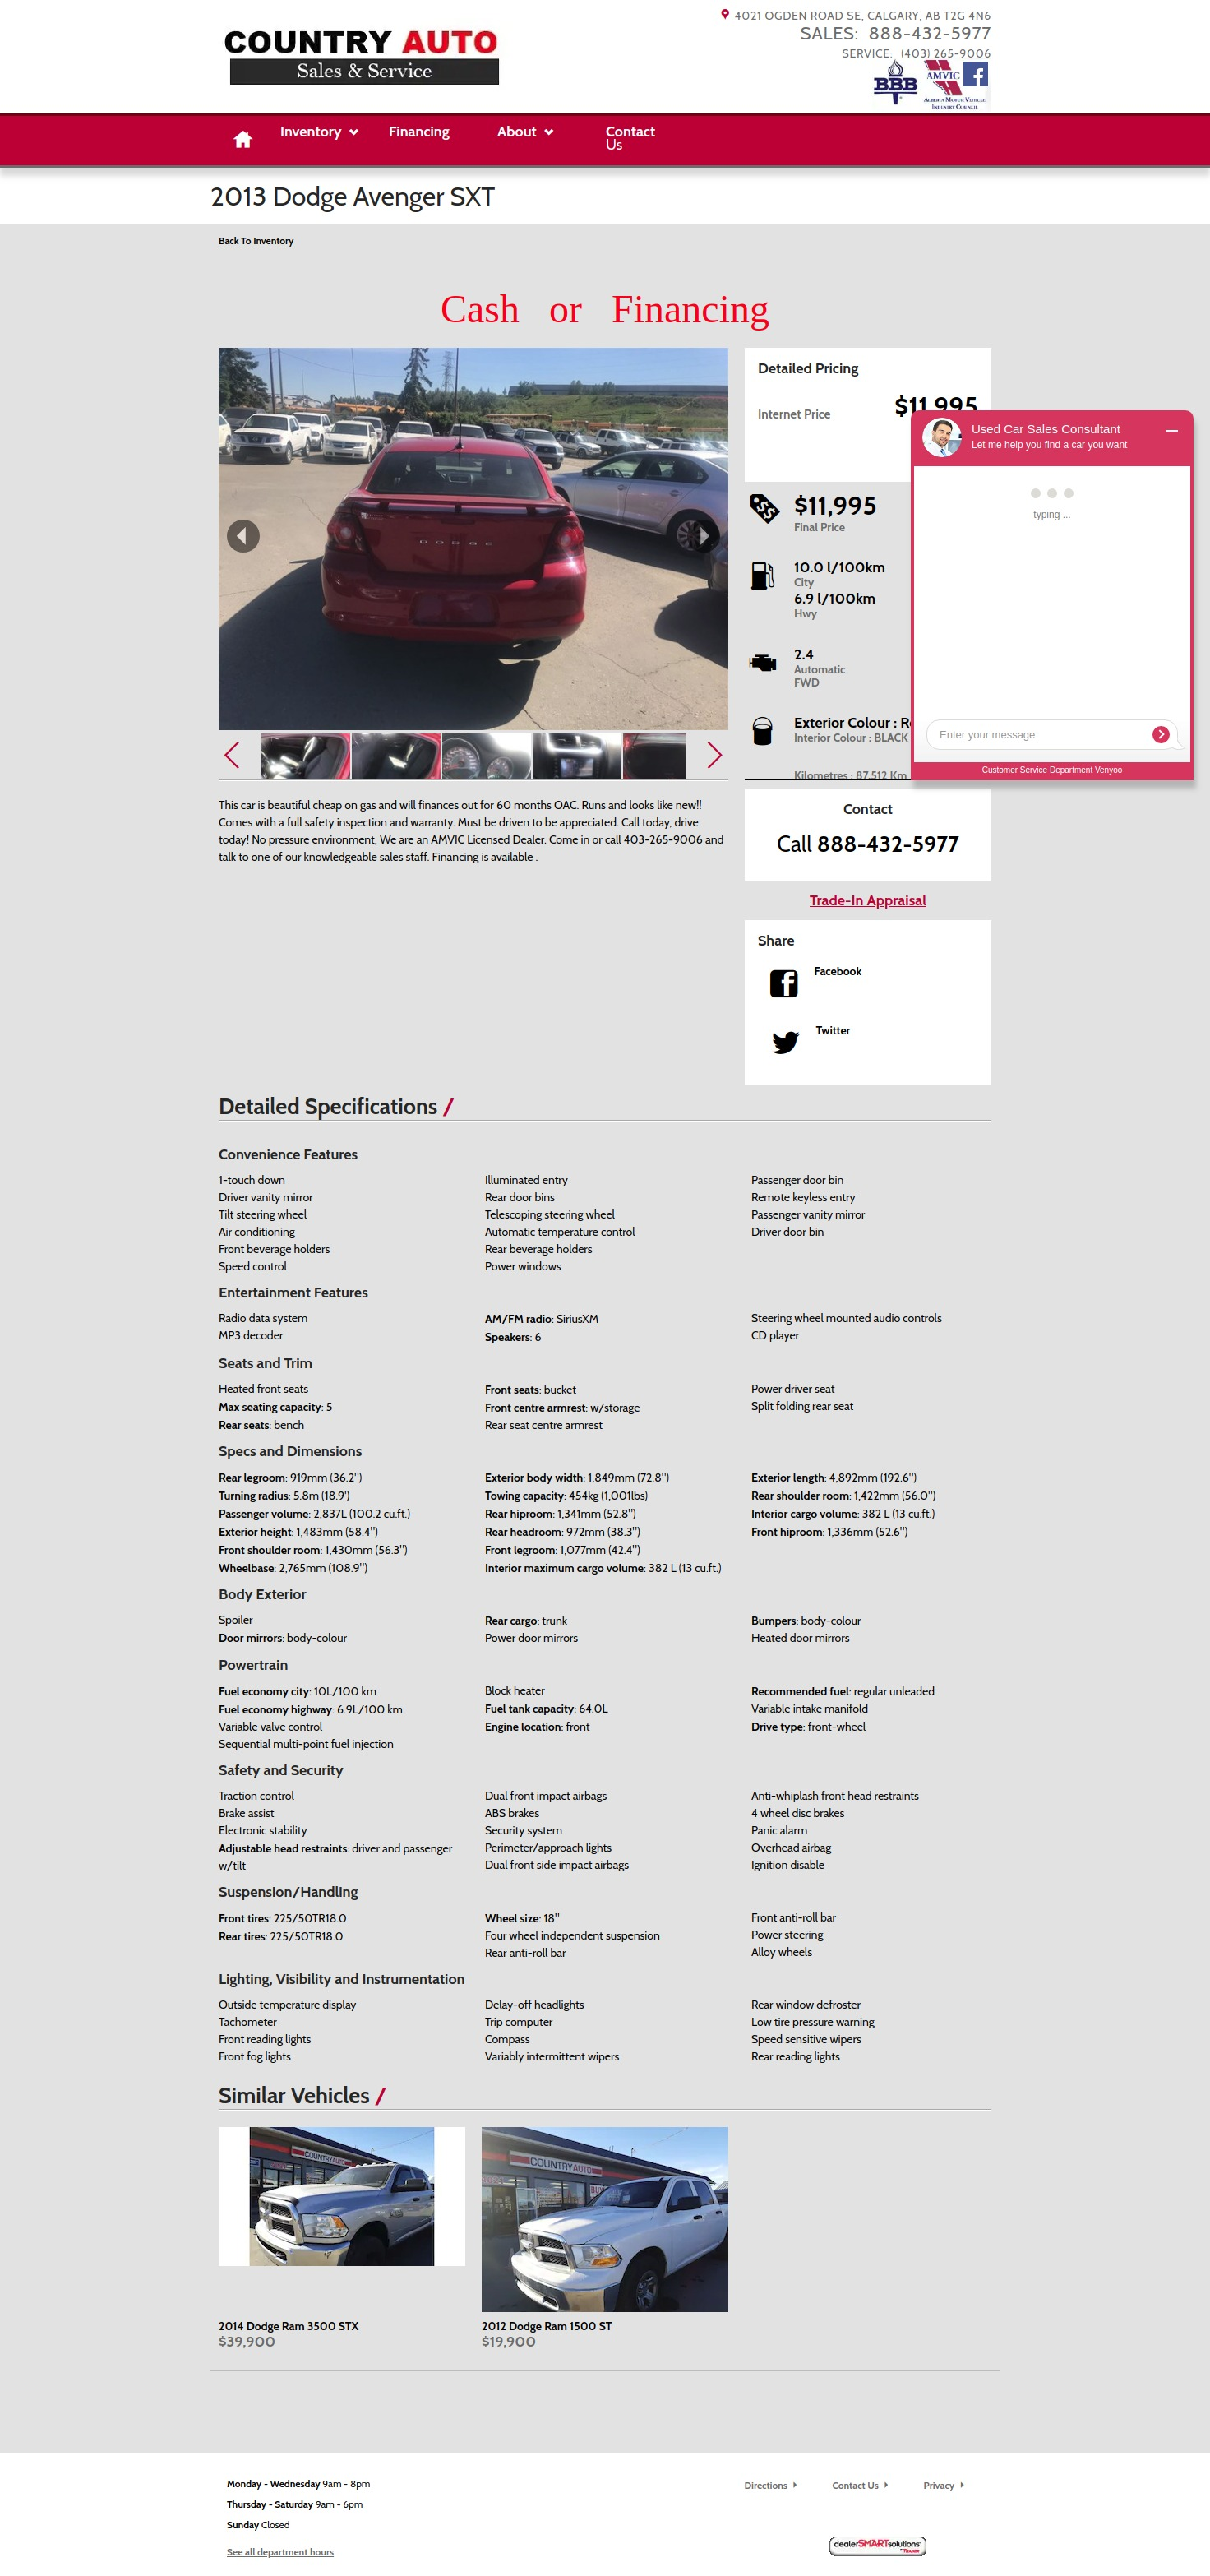car: (706, 741, 724, 770)
